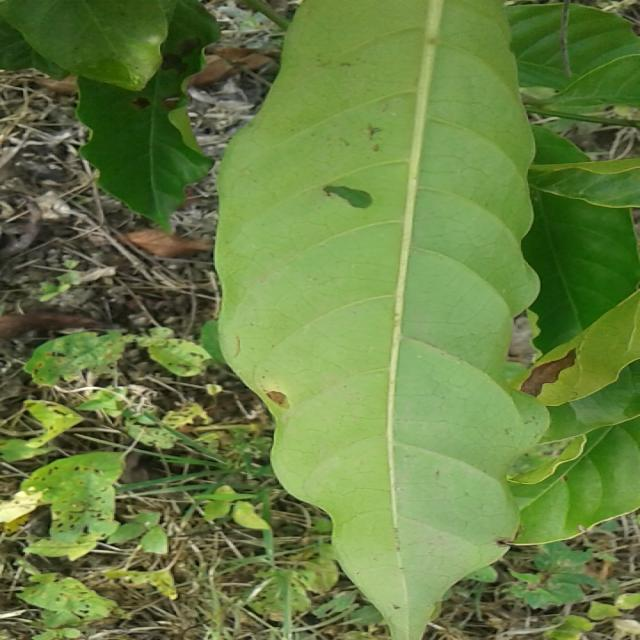Enfermedad-Roya: (208, 0, 536, 640)
